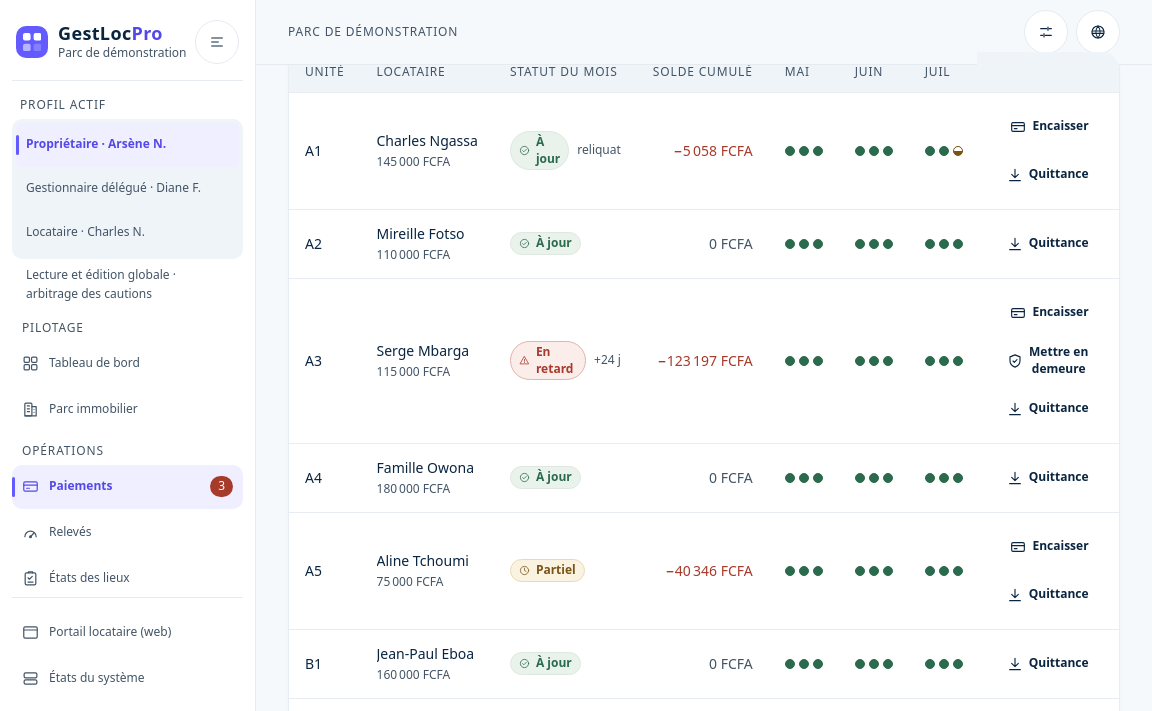
Test: la mise en demeure en démonstration › refuse un motif trop court, comme sur un vrai parc
(page scrolled)
Expected: the row that starts with "Serge Mbarga" is shown, 289,278 -> 1120,443
Step 1. Click the button "Mettre en demeure" → (1048, 361), box 993,339 -> 1103,383
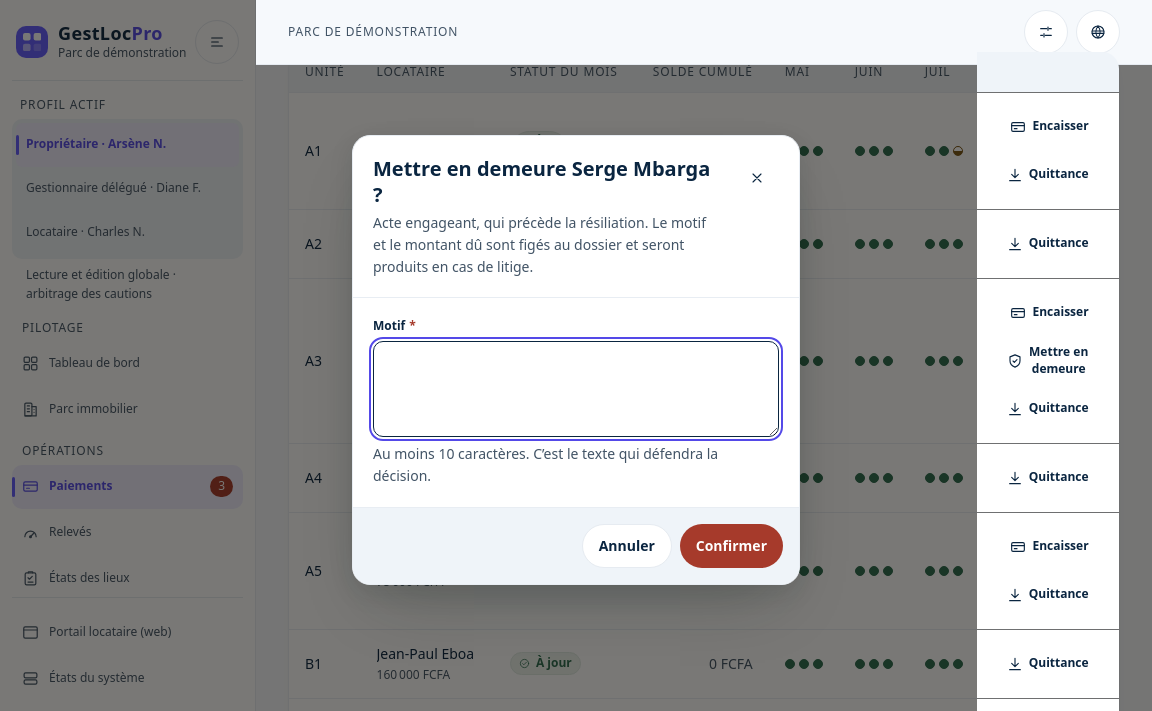
Step 2. Type "trop" into the text box → (576, 389), box 373,341 -> 779,437
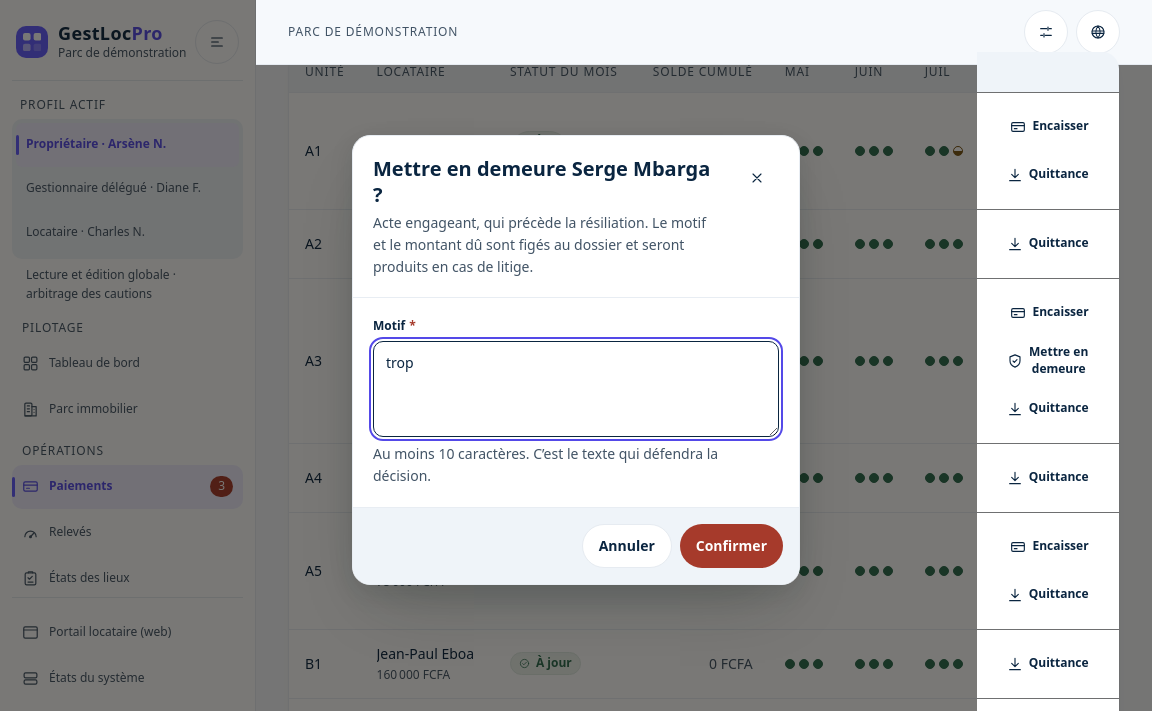
Step 3. Click the button "Confirmer" → (731, 546), box 680,524 -> 783,568
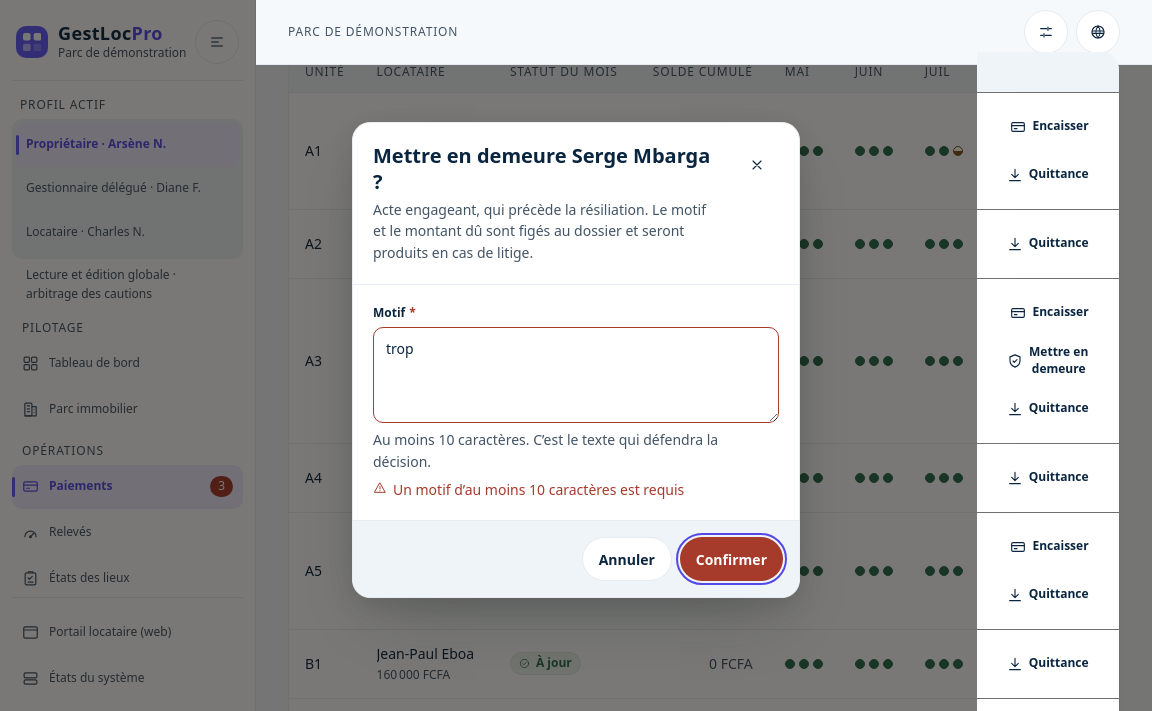
Expected: the dialog is shown, 352,122 -> 800,598
Expected: the text "Un motif d’au moins 10 caractères est requis" is shown, 373,480 -> 684,499
